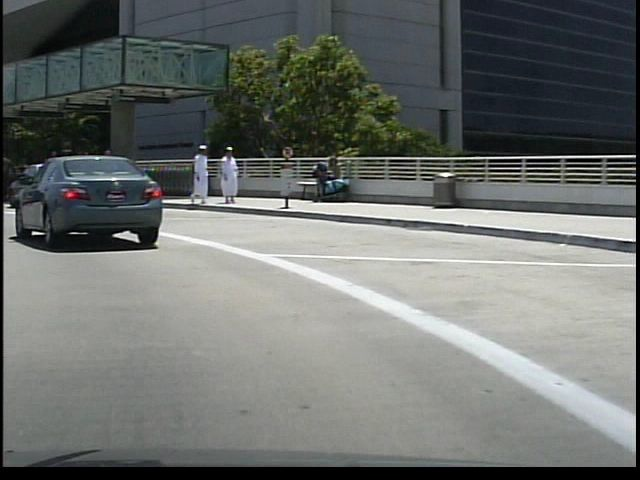person: (89, 144, 118, 216), (181, 140, 210, 210), (211, 143, 237, 206)
